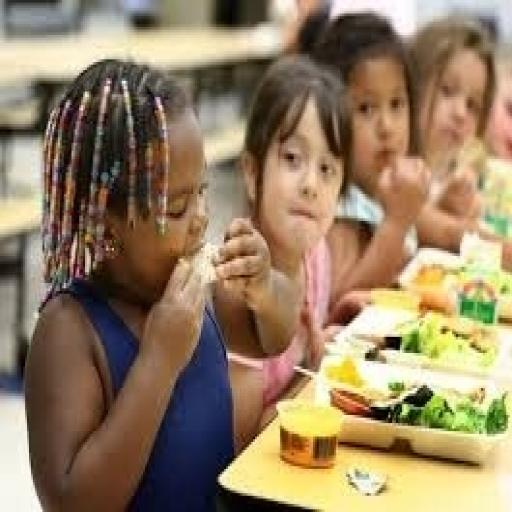eating: (21, 54, 309, 509)
